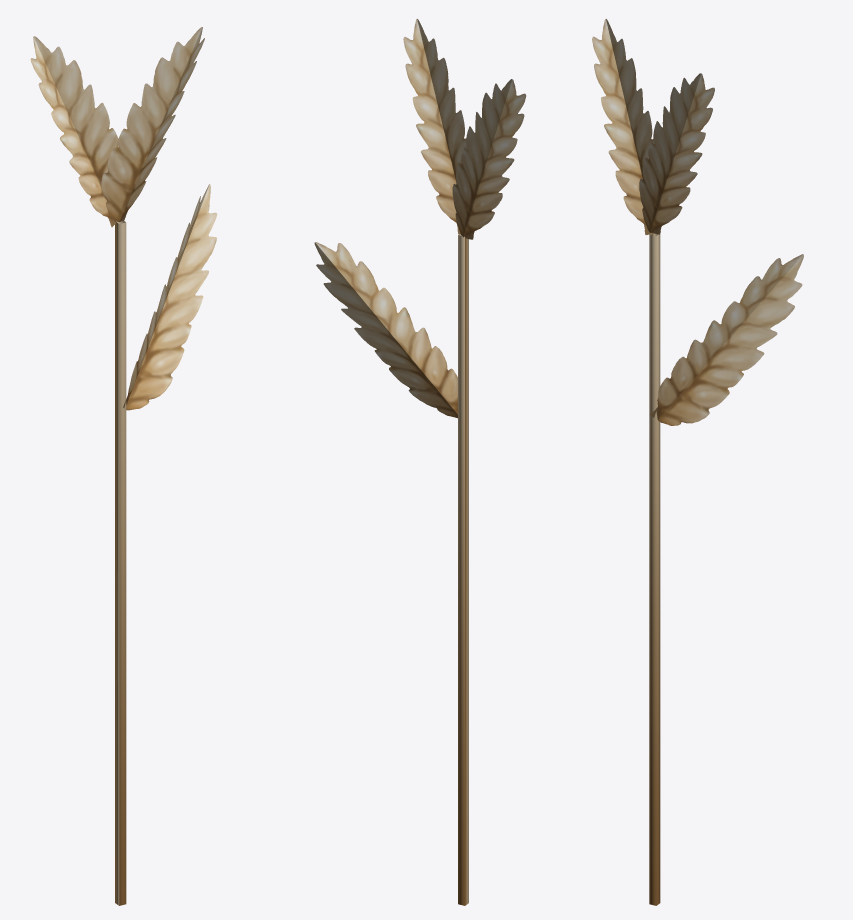
The model's file is WeetDense.fbx.
3 renders of one model, left to right at view 1: azimuth 30°, elevation 25°; view 2: azimuth 150°, elevation 25°; view 3: azimuth 330°, elevation 25°, orthographic.
Visible parts, largest first — view 1: WeetDense; view 2: WeetDense; view 3: WeetDense.
Part boxes in pixels (bbox=[...]): WeetDense: bbox=[30, 27, 217, 905]; WeetDense: bbox=[314, 19, 526, 905]; WeetDense: bbox=[592, 19, 803, 905].
Bounding box in the file's own units: 2.01 × 6.72 × 0.6793.
